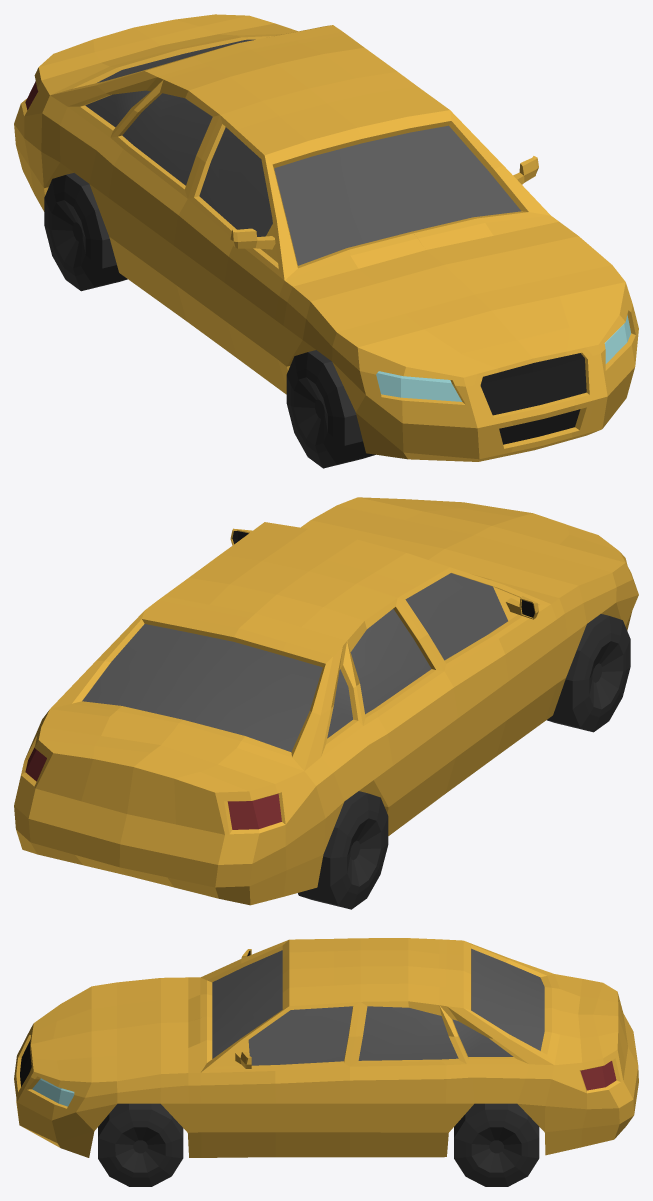
The model's file is 4yellow.fbx.
3 renders of one model, top to bottom at view 1: azimuth 30°, elevation 25°; view 2: azimuth 150°, elevation 25°; view 3: azimuth 270°, elevation 25°, orthographic. The views are drawn at different scales.
Visible parts, largest first — view 1: Cube; view 2: Cube; view 3: Cube.
Boxes of the visible parts, x1,y1,x2,y2 form: Cube: [14, 14, 638, 468]; Cube: [14, 497, 638, 909]; Cube: [14, 938, 638, 1186].
Bounding box in the file's own units: 131 × 94.78 × 317.
